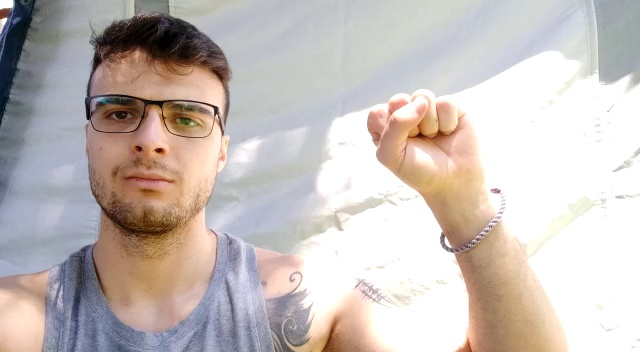Fist: (354, 87, 509, 224)
